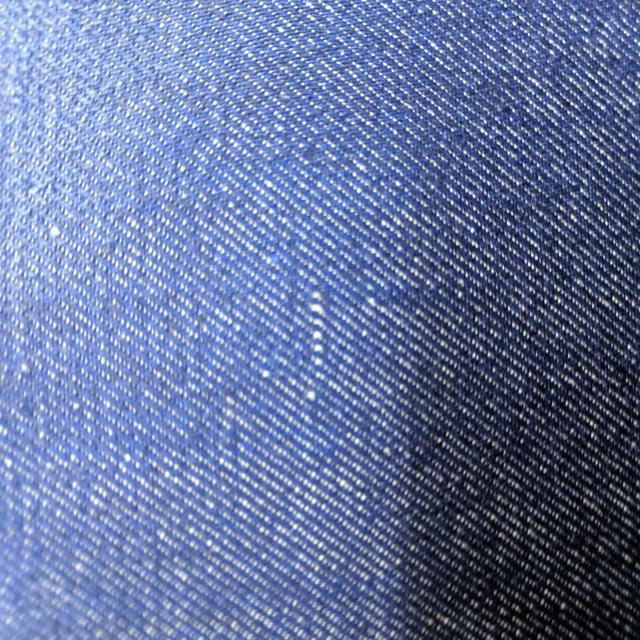pulled_or_thick_thread: (306, 283, 326, 414)
